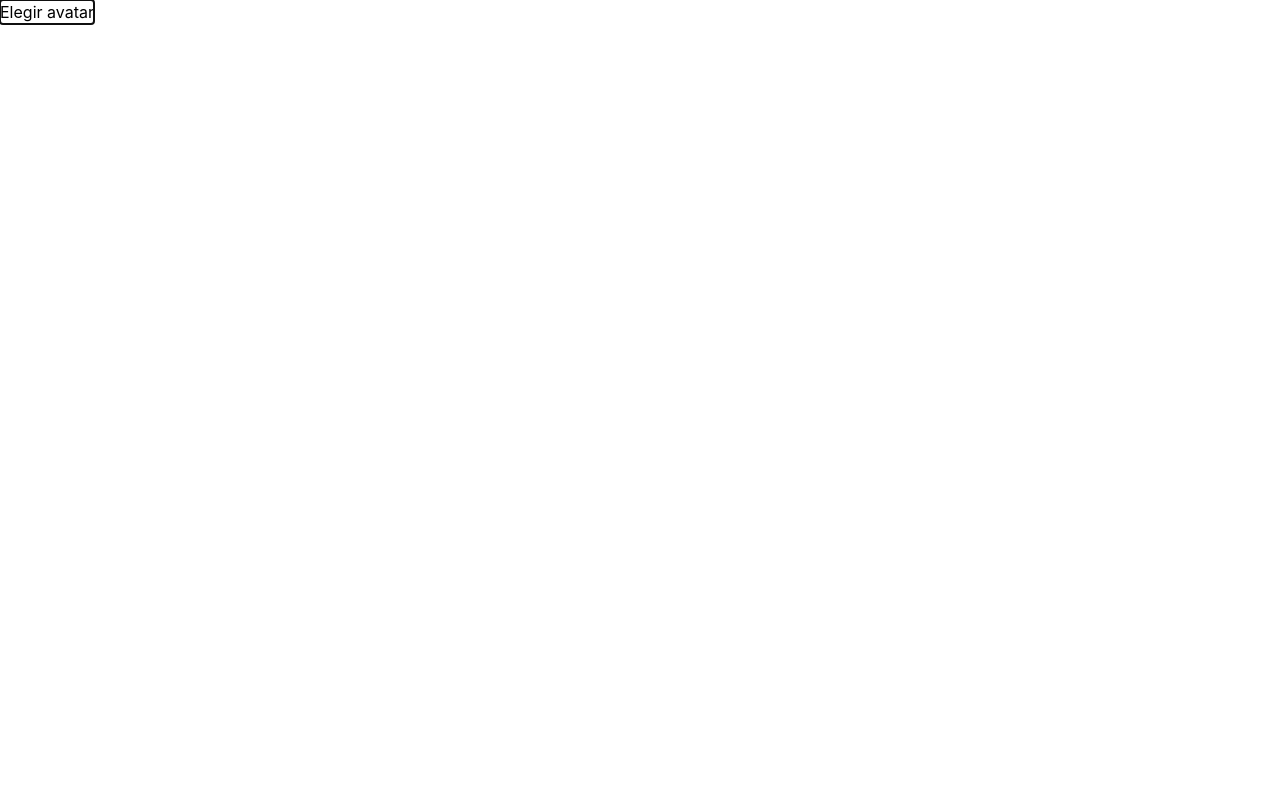
<AvatarPicker> › al cerrarlo, el foco vuelve al botón que lo abrió
Press Enter
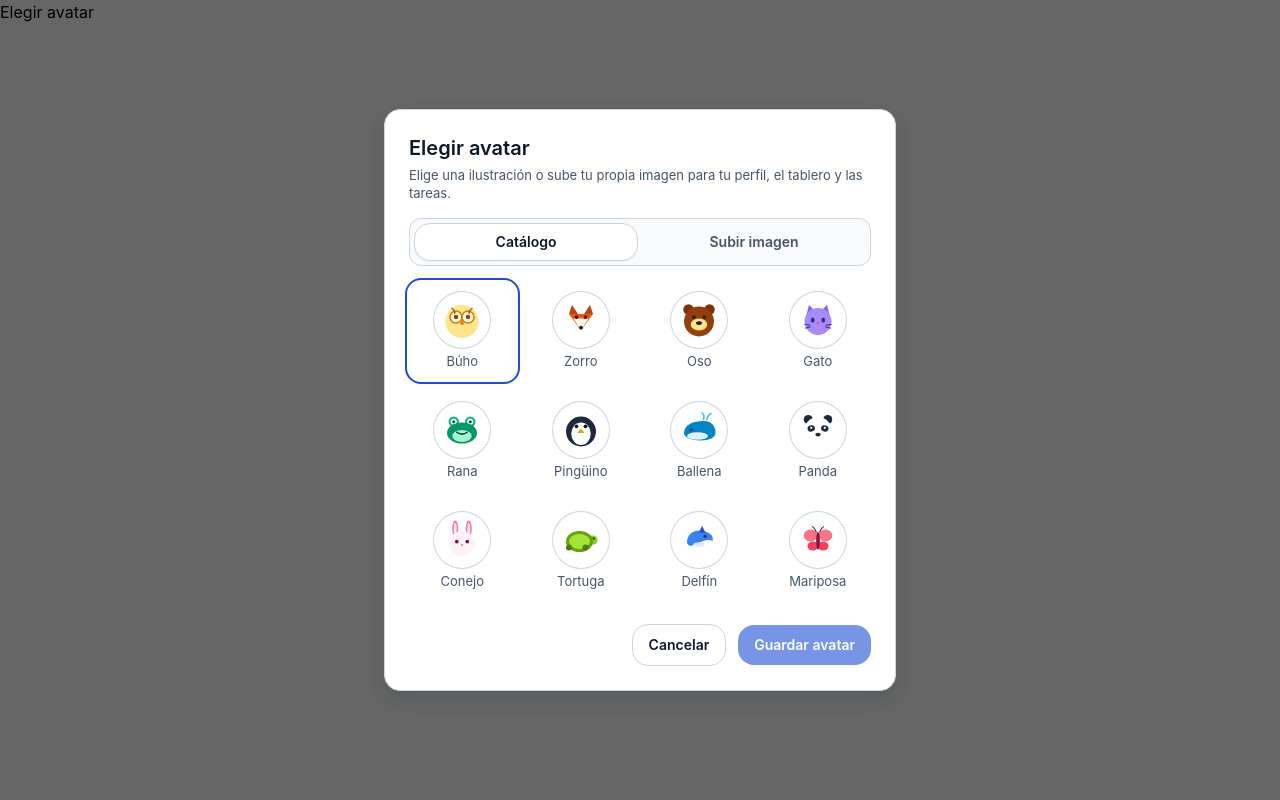
Check: the dialog is shown, box [384,109,896,691]
Click the button "Cancelar".
click(679, 645)  # box [632,624,726,666]
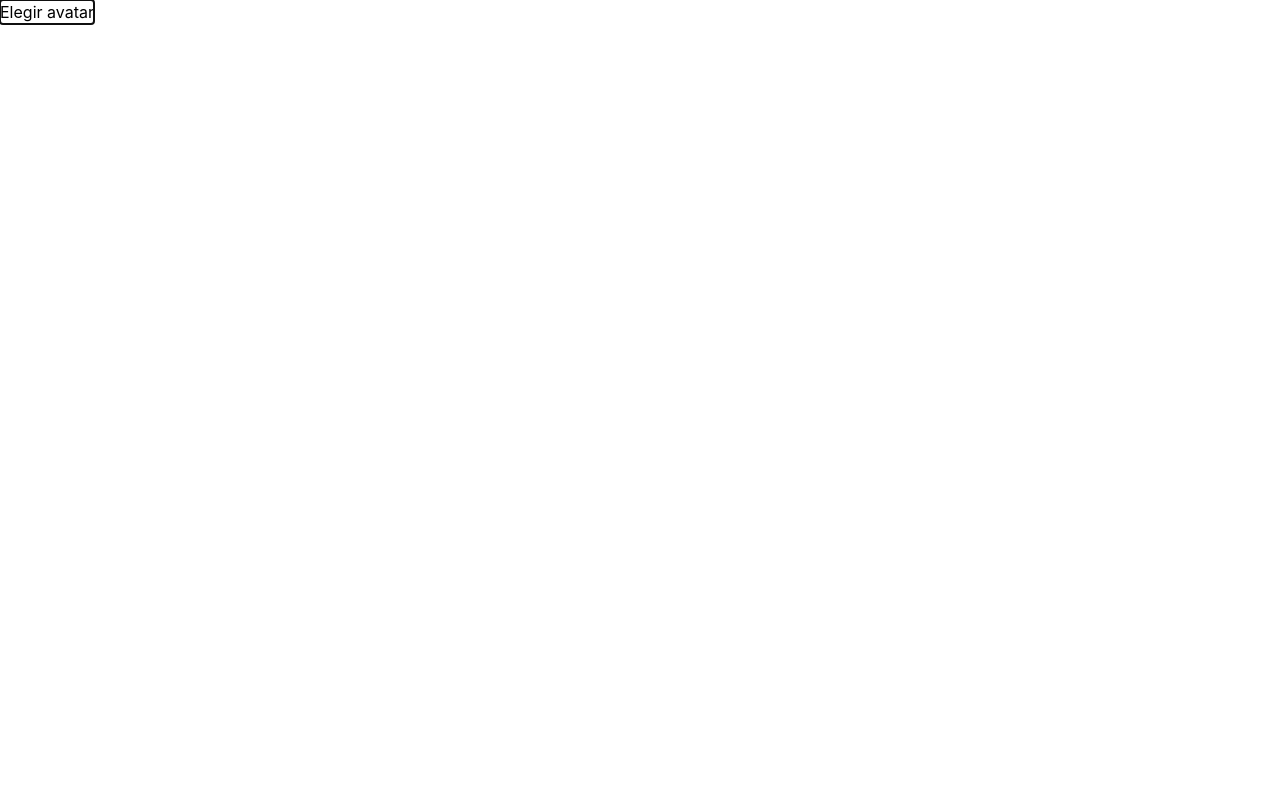
Check: the dialog is gone
